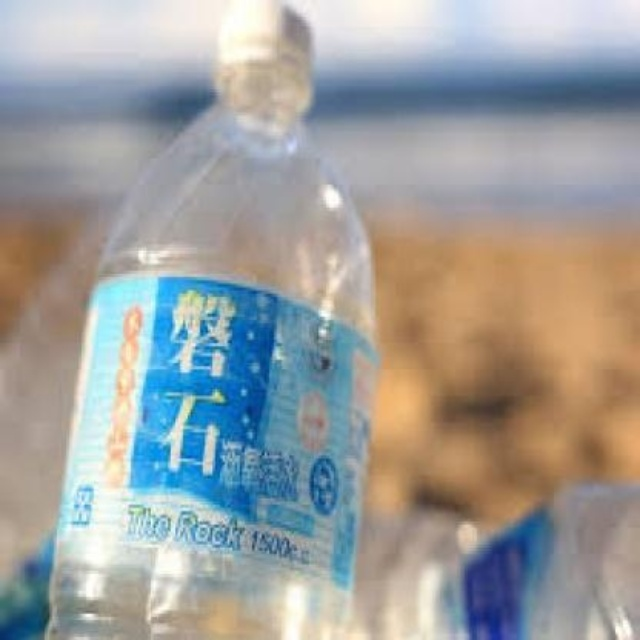trash: (49, 0, 374, 638)
